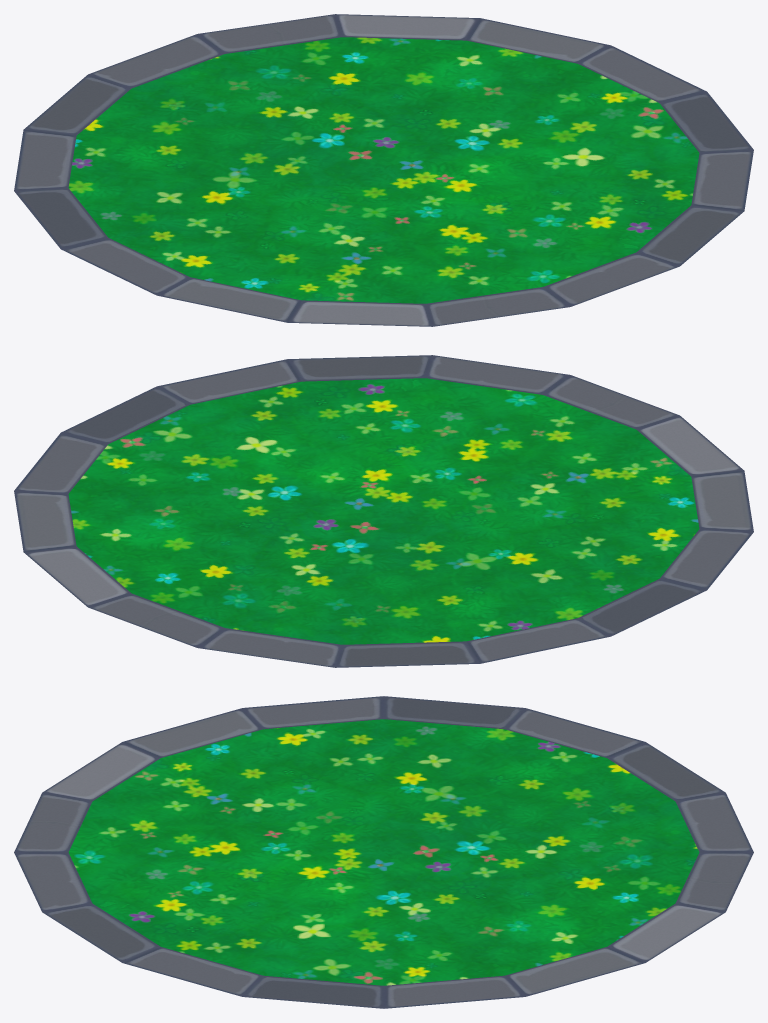
File: Ground01_c01.FBX
3 renders of one model, top to bottom at view 1: azimuth 30°, elevation 25°; view 2: azimuth 150°, elevation 25°; view 3: azimuth 270°, elevation 25°, orthographic.
Visible parts, largest first — view 1: Ground01_c01; view 2: Ground01_c01; view 3: Ground01_c01.
Part boxes in pixels (bbox=[...]): Ground01_c01: bbox=[14, 14, 753, 326]; Ground01_c01: bbox=[14, 355, 753, 667]; Ground01_c01: bbox=[14, 696, 753, 1008].
Size of the model in its own units: 430 by 0.000109 by 430.
Materials: 2 (2 with a texture image).
